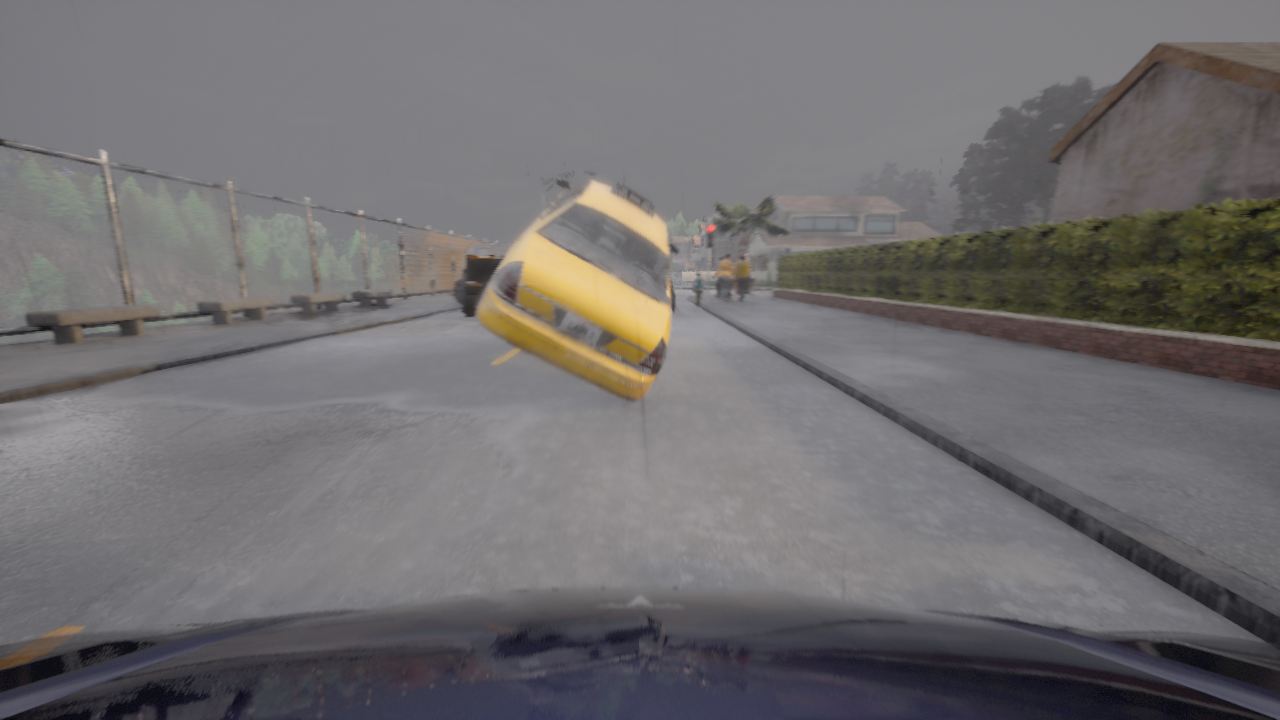cyclist: (0, 588, 1279, 719), (477, 178, 679, 401), (453, 244, 512, 316), (670, 280, 674, 312)
pedestrian: (713, 257, 732, 300), (734, 256, 750, 302), (718, 254, 733, 302), (693, 273, 704, 307), (733, 255, 740, 300)
